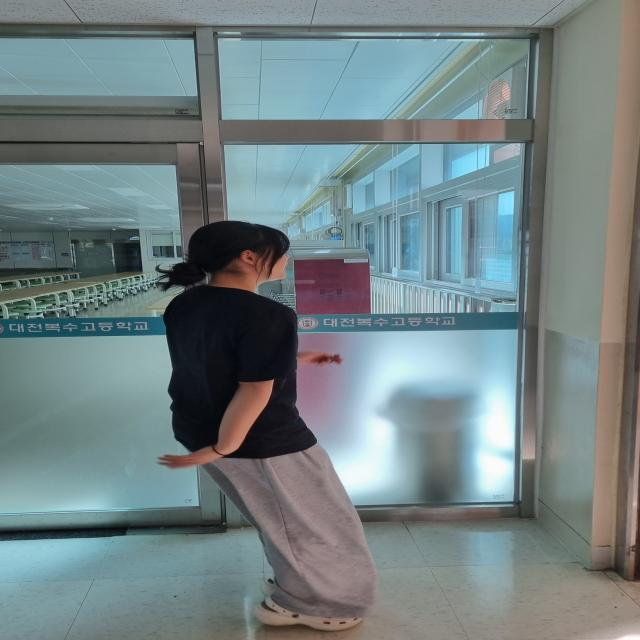logo: (297, 316, 321, 331)
